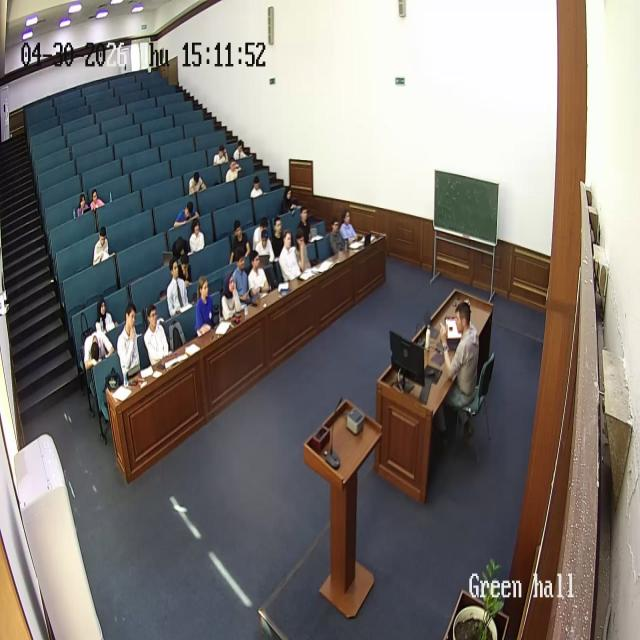person: (434, 303, 480, 439), (117, 303, 141, 381), (142, 303, 170, 365), (84, 318, 114, 371), (166, 255, 190, 318), (194, 273, 216, 337), (278, 228, 302, 282), (220, 269, 244, 321), (248, 250, 270, 298), (231, 249, 251, 301), (230, 219, 251, 265), (96, 296, 116, 340), (255, 223, 275, 264), (294, 223, 311, 271), (93, 225, 110, 267), (270, 216, 286, 259), (252, 214, 270, 252), (281, 184, 299, 222), (175, 200, 199, 228), (340, 208, 358, 244), (329, 217, 345, 256), (168, 232, 190, 260), (296, 205, 312, 242), (189, 217, 205, 253), (188, 172, 206, 196), (226, 158, 242, 183), (90, 186, 104, 212), (212, 143, 228, 165), (249, 175, 263, 200), (232, 139, 246, 160), (77, 192, 89, 216)
